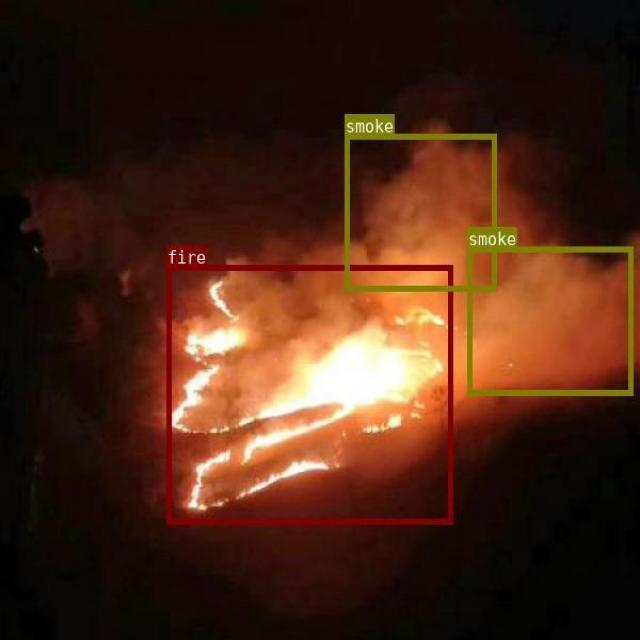fire: (166, 264, 451, 523)
smoke: (467, 246, 632, 394), (344, 133, 495, 290)
